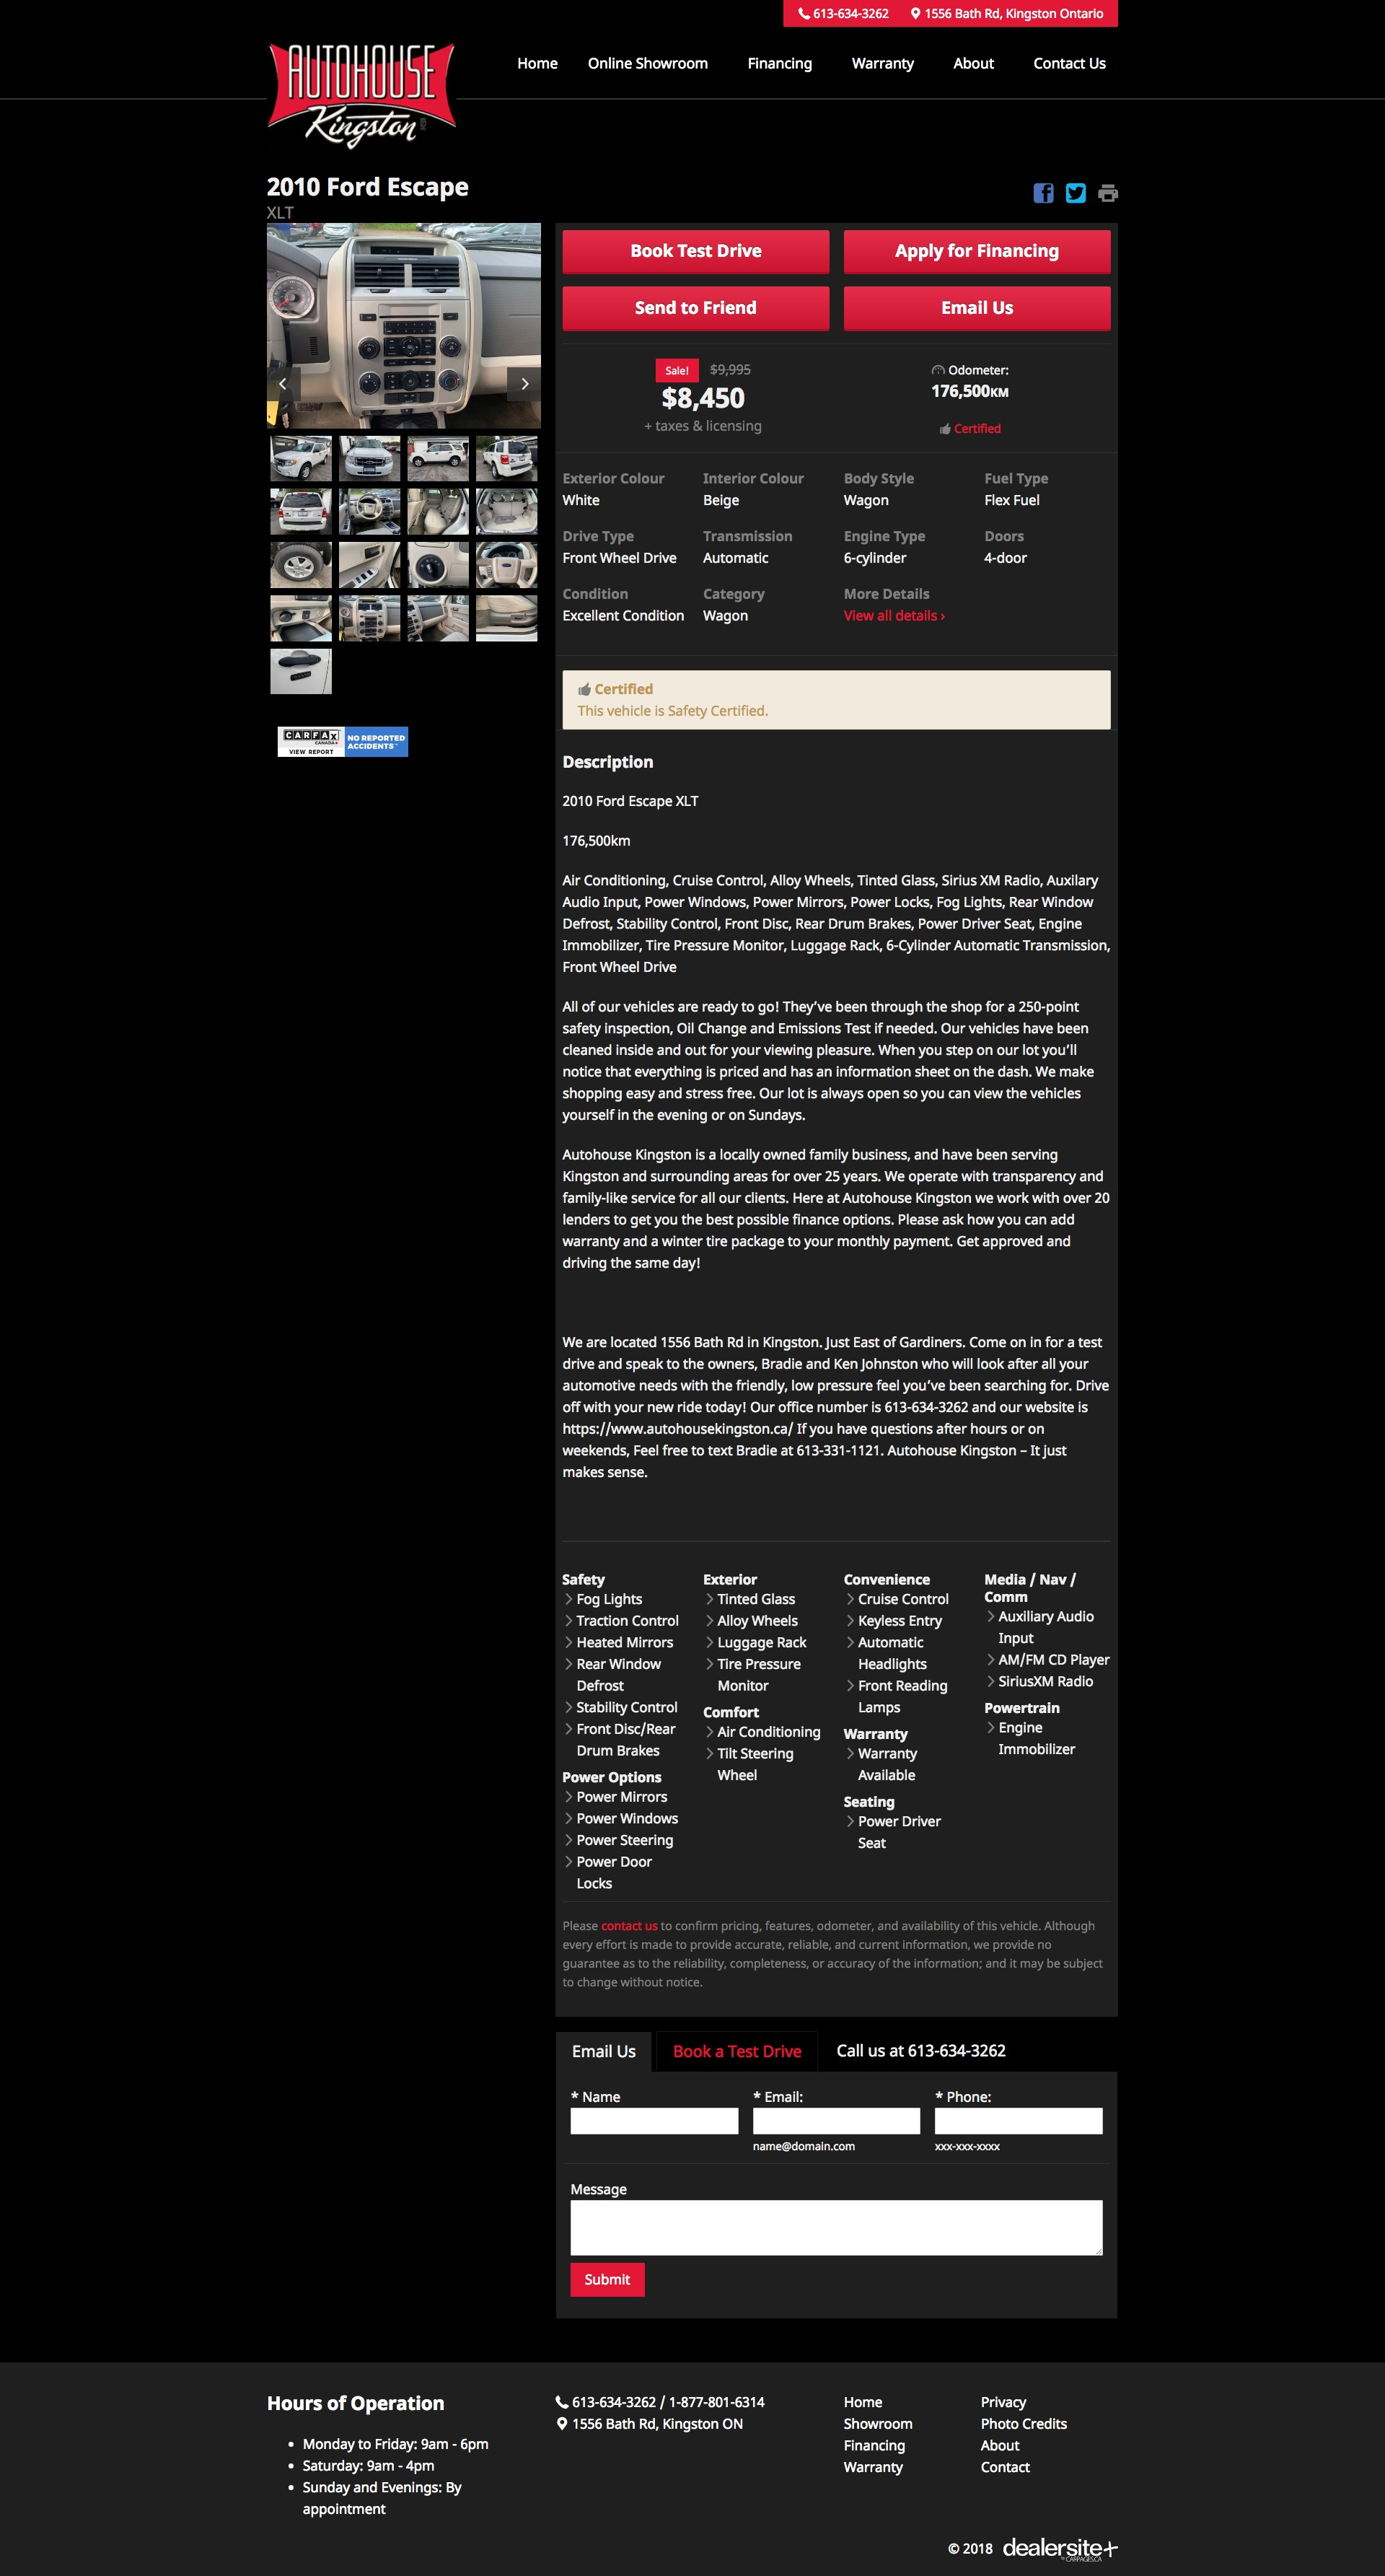car: (507, 365, 544, 404)
